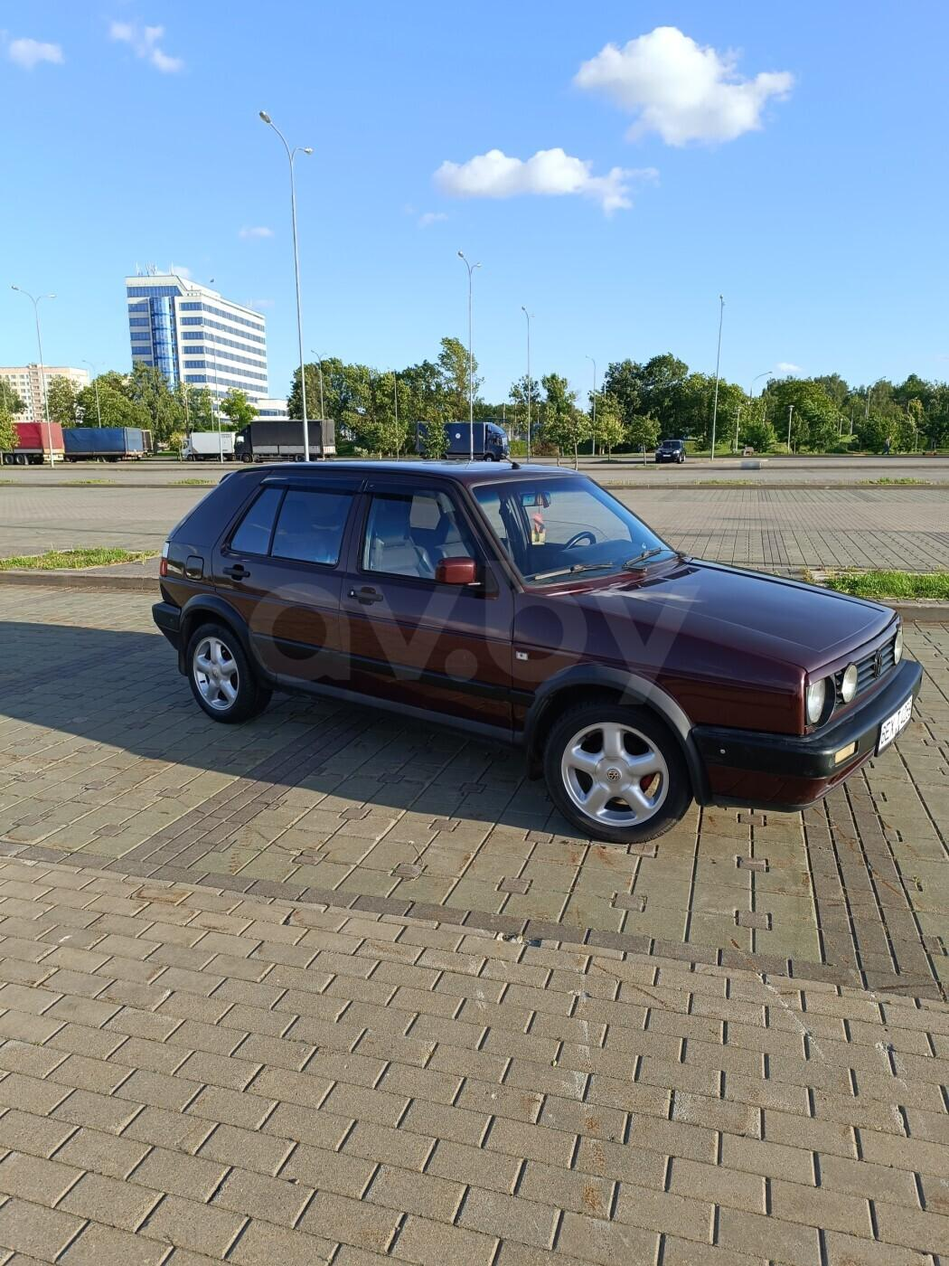Golf_1983-1992: (148, 450, 926, 843)
